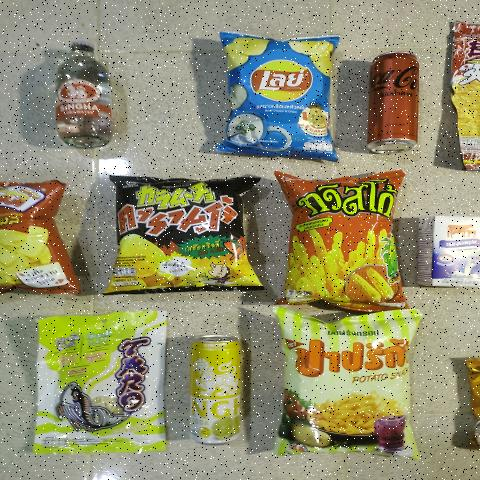coke_red: (372, 55, 419, 149)
karamujo: (115, 176, 246, 292)
lay_blue: (222, 38, 328, 153)
paprika: (279, 313, 406, 442)
party_red: (0, 178, 68, 285)
singha_soda: (47, 33, 120, 150)
singha_yellow: (191, 333, 248, 442)
taro_yellow: (42, 317, 164, 447)
thai_denmark: (413, 217, 480, 288)
twisco: (287, 174, 394, 297)
